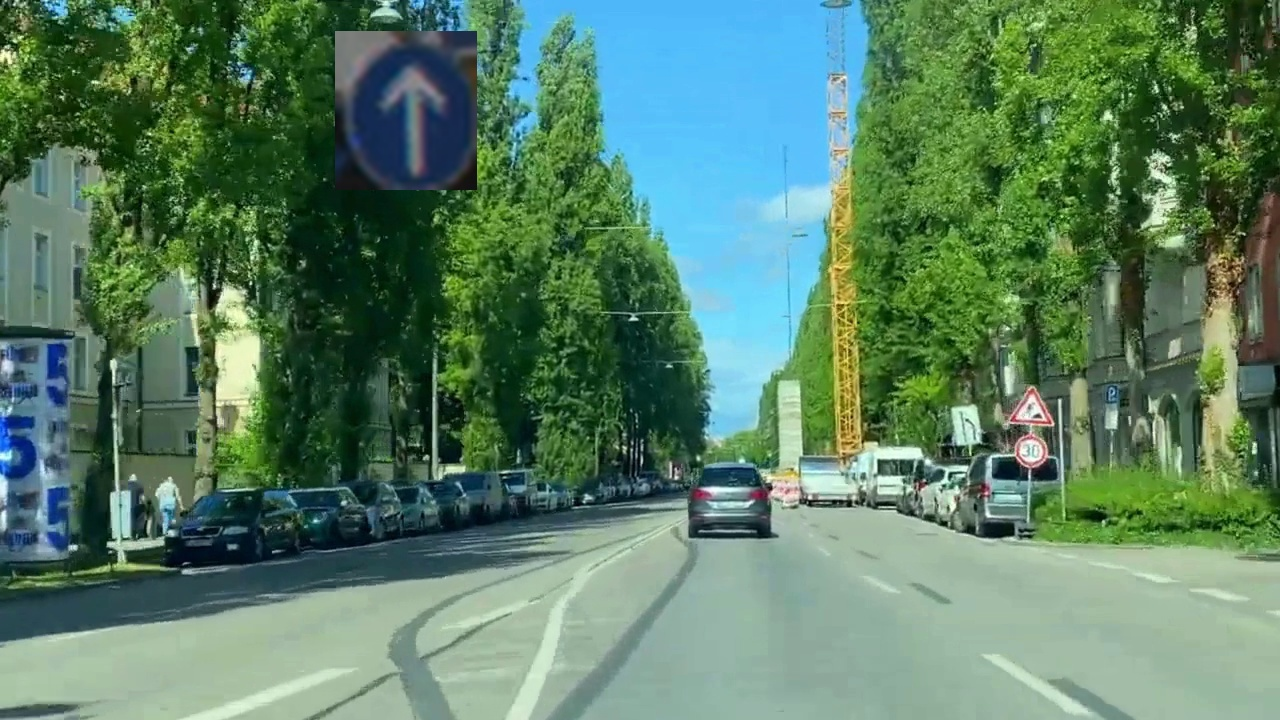Ahead only: (335, 31, 477, 190)
